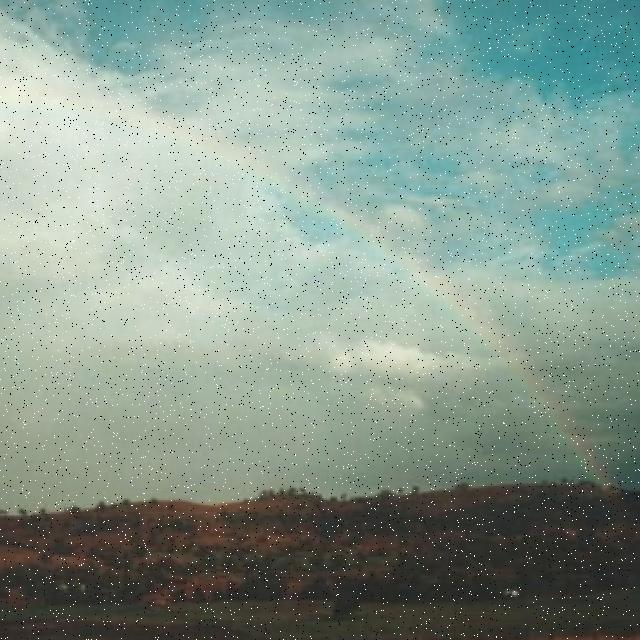Ns: (1, 57, 640, 441)
